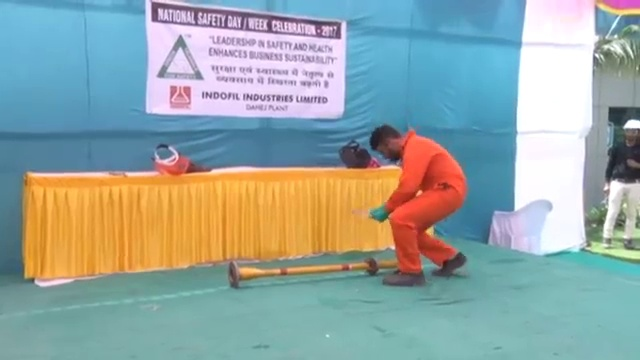helmet: (621, 117, 640, 132)
helmet_off: (368, 124, 406, 162)
helmet_on: (620, 116, 640, 147)
person: (359, 123, 468, 287), (598, 115, 640, 249)
